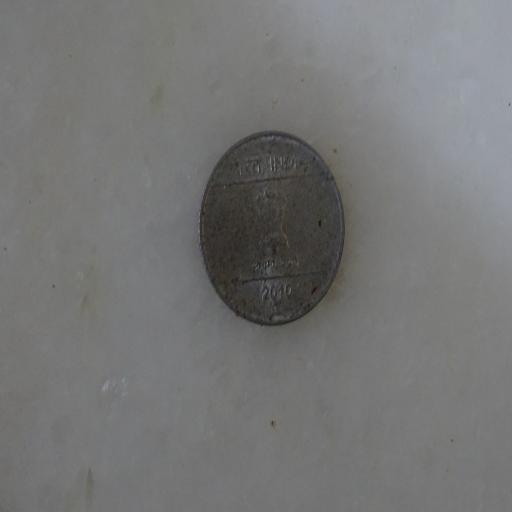rupee1: (196, 130, 345, 327)
